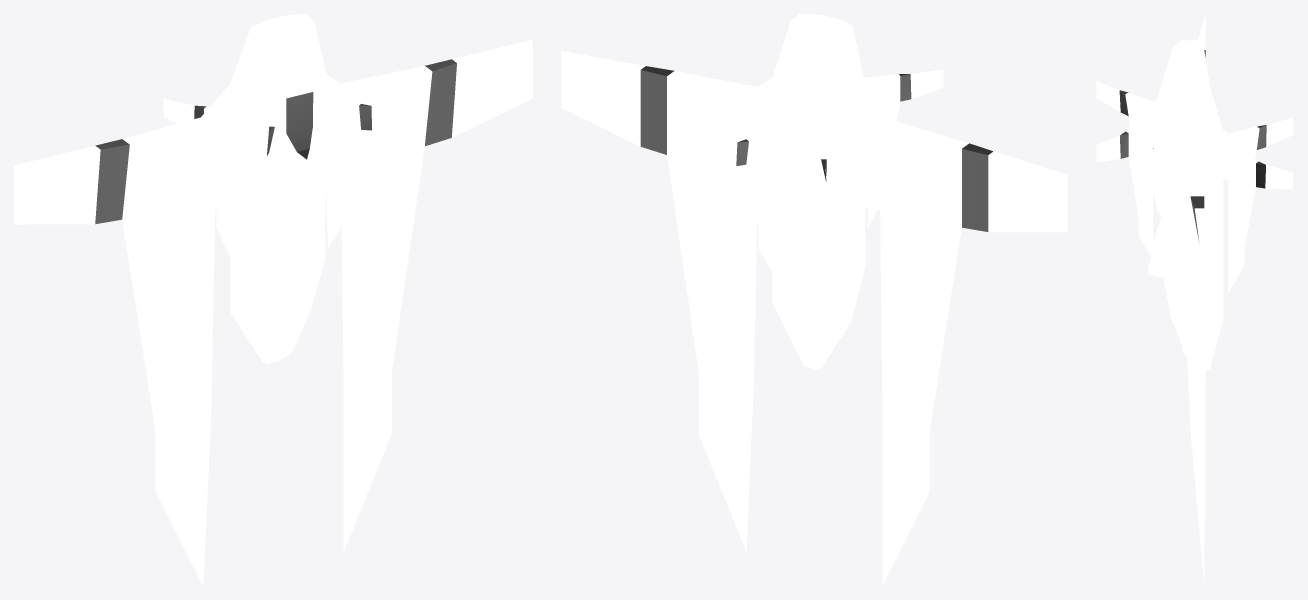
Rendered from ship_12_13013.glb.
3 renders of one model, left to right at view 1: azimuth 30°, elevation 25°; view 2: azimuth 150°, elevation 25°; view 3: azimuth 270°, elevation 25°, orthographic. The views are drawn at different scales.
Visible parts, largest first — view 1: group_19; view 2: group_19; view 3: group_19.
Part boxes in pixels (x1,y1,x2,y2): group_19: (14, 14, 532, 585); group_19: (561, 14, 1067, 584); group_19: (1096, 14, 1293, 583).
Bounding box in the file's own units: 1917 × 1949 × 694.
2 materials, 2 textured.
